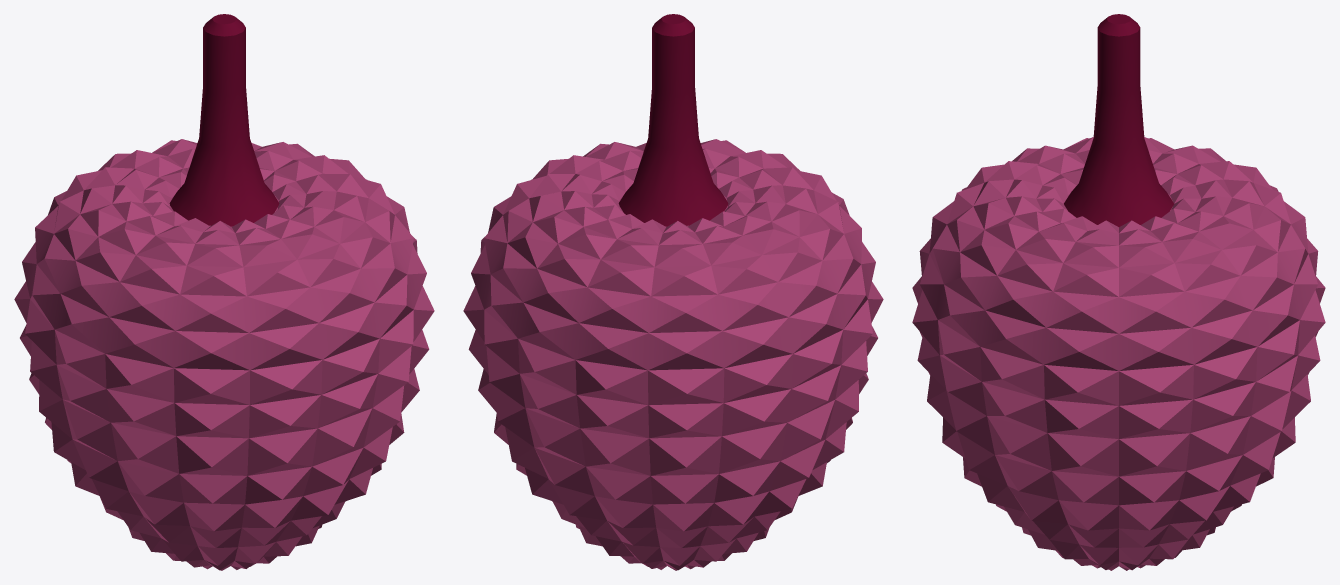
File: Lychee.FBX
3 renders of one model, left to right at view 1: azimuth 30°, elevation 25°; view 2: azimuth 150°, elevation 25°; view 3: azimuth 270°, elevation 25°, orthographic.
Visible parts, largest first — view 1: Lychee; view 2: Lychee; view 3: Lychee.
Part boxes in pixels (bbox=[...]): Lychee: bbox=[14, 14, 434, 570]; Lychee: bbox=[463, 14, 883, 570]; Lychee: bbox=[912, 14, 1325, 570].
Size of the model in its own units: 926 by 926 by 1335.
